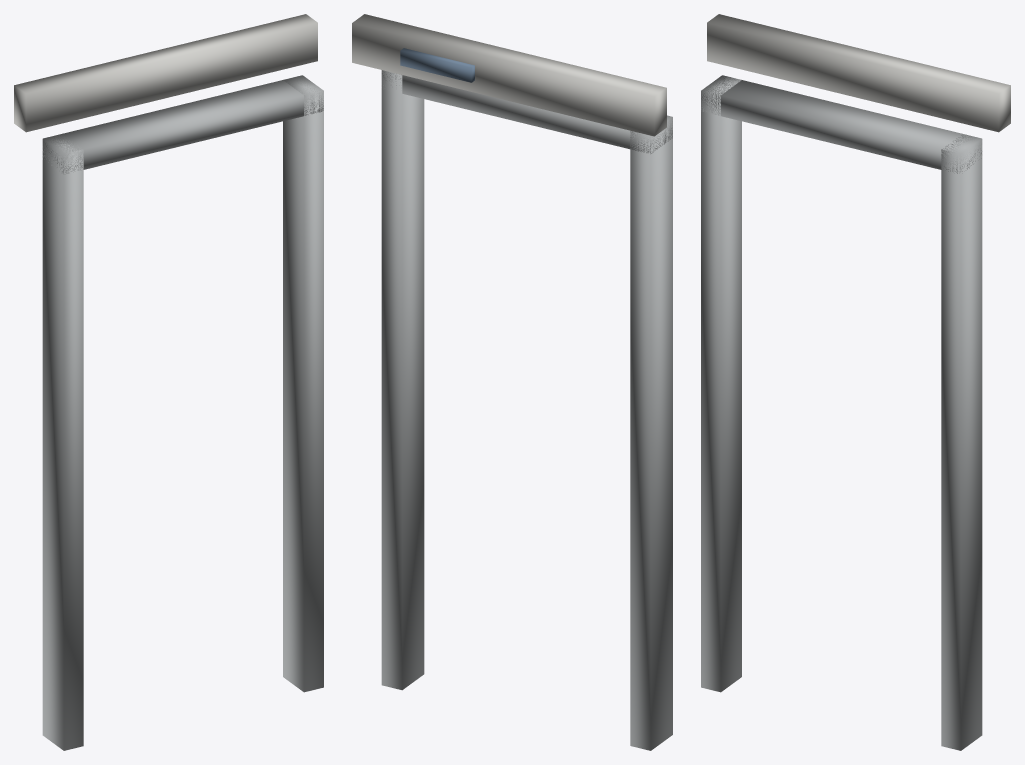
Rendered from doorway_hospital_w96_h240_d16.glb.
3 views of the same model, side by side, from view 1: azimuth 30°, elevation 25°; view 2: azimuth 150°, elevation 25°; view 3: azimuth 330°, elevation 25° (orthographic). The views are drawn at different scales.
Parts seen in each view (by area): view 1: world; view 2: world; view 3: world.
Boxes of the visible parts, x1,y1,x2,y2 form: world: (14,14,323,750); world: (352,14,672,750); world: (701,14,1010,750).
Size of the model in its own units: 1.27 by 2.69 by 0.28.
